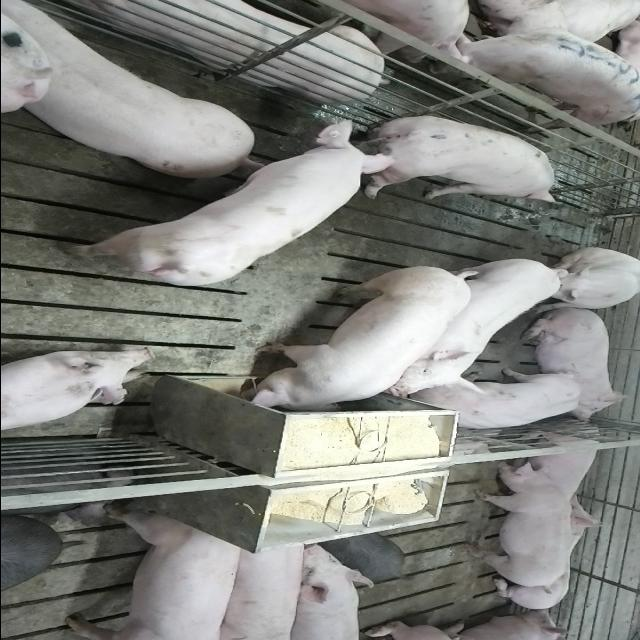Feeding: (238, 269, 472, 422)
Sitting: (527, 248, 639, 312)
Standing: (53, 124, 386, 292), (4, 6, 264, 182), (380, 253, 566, 394), (59, 504, 248, 638), (426, 24, 640, 126), (342, 114, 559, 204), (462, 456, 574, 586), (210, 533, 308, 637), (282, 541, 370, 640)
Sternal_lying: (486, 498, 611, 608), (0, 348, 154, 433), (517, 313, 629, 422), (520, 427, 606, 500)
